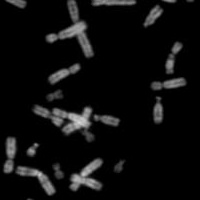chromosome: (66, 0, 93, 57), (16, 164, 55, 195), (69, 157, 102, 190), (44, 20, 87, 43), (62, 108, 96, 133), (53, 107, 90, 127), (47, 62, 80, 84), (33, 104, 63, 127), (165, 41, 183, 76), (70, 172, 102, 189), (142, 4, 163, 27), (2, 136, 15, 173), (150, 77, 185, 90), (151, 96, 164, 124), (93, 114, 120, 126), (45, 88, 64, 103), (0, 0, 26, 9), (80, 127, 95, 142), (92, 0, 135, 5), (113, 158, 126, 173), (52, 163, 63, 180), (27, 141, 38, 156), (18, 197, 35, 200), (155, 0, 176, 2), (182, 0, 194, 2)
